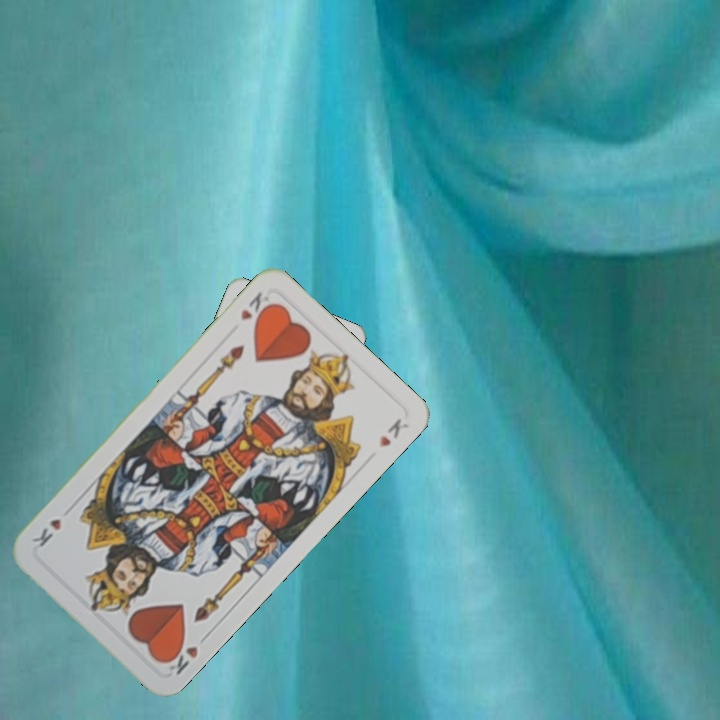HK: (159, 629, 212, 677), (236, 287, 277, 327)
